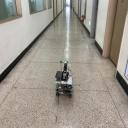cart: (55, 73, 73, 98)
